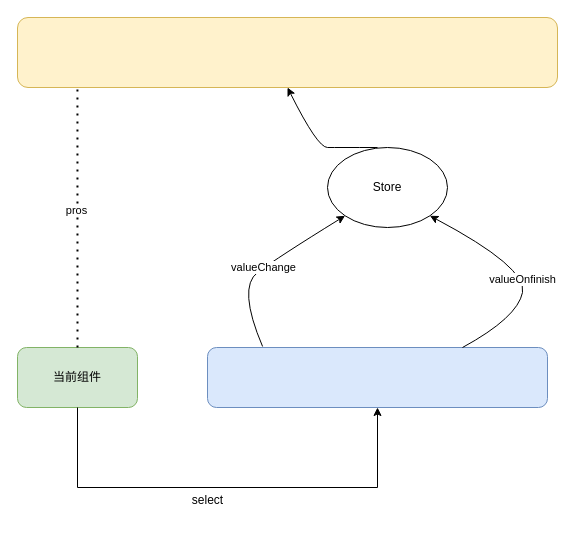
Image size: 575x533. Some labels were removed from this diagram. The shapes that lost their labels are listed below. From the top down, each one's centre as x and y in pixels, then its label:
At point (287, 52): "物料属性".
At point (377, 377): "属性编排表单".
